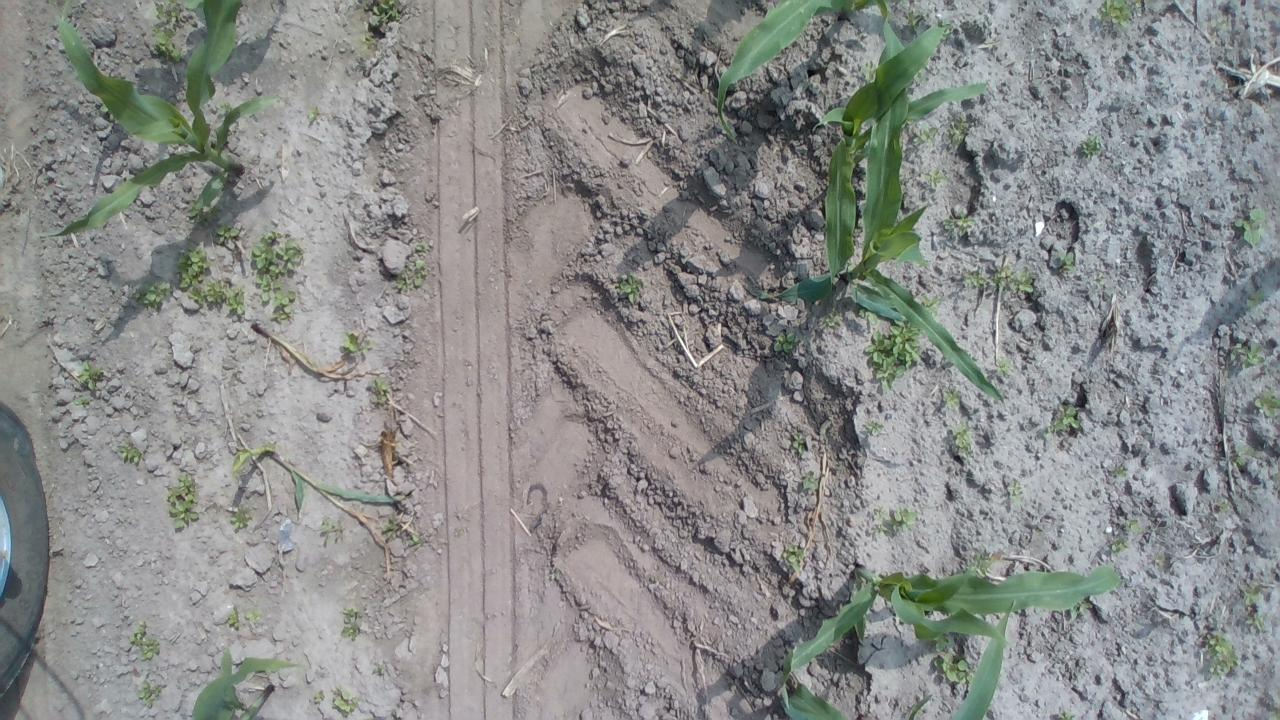Maize: (749, 21, 1007, 408), (34, 0, 316, 251), (758, 542, 1144, 680), (715, 2, 920, 144), (819, 20, 999, 160)
Weeds: (248, 229, 304, 280), (358, 0, 410, 51), (192, 278, 248, 320), (113, 437, 166, 480), (166, 472, 203, 533), (394, 243, 436, 294), (374, 512, 424, 550), (1099, 515, 1144, 557), (892, 317, 928, 369), (863, 327, 897, 380), (1202, 628, 1238, 674), (70, 361, 108, 404), (868, 504, 915, 538), (126, 621, 162, 665), (934, 654, 980, 688), (612, 269, 652, 306), (132, 279, 174, 313), (178, 246, 209, 292), (150, 1, 198, 30), (1235, 207, 1269, 246), (1238, 582, 1264, 631), (998, 263, 1034, 297), (1228, 338, 1270, 367), (341, 330, 379, 362), (148, 34, 186, 65), (248, 271, 285, 302), (226, 502, 264, 532), (212, 219, 246, 252), (134, 670, 164, 706), (784, 428, 816, 460), (946, 118, 978, 150), (1075, 128, 1108, 159), (316, 514, 346, 548), (959, 264, 998, 290), (778, 539, 808, 572), (332, 680, 358, 718), (338, 604, 364, 642), (224, 606, 262, 632), (1248, 387, 1280, 417), (938, 211, 976, 236), (1224, 439, 1254, 470), (1050, 404, 1076, 439), (922, 161, 951, 191), (951, 428, 979, 459), (368, 374, 392, 410), (272, 290, 296, 325), (1102, 1, 1138, 24), (182, 201, 216, 224), (970, 550, 996, 577), (820, 308, 850, 330), (916, 124, 943, 148), (773, 327, 796, 353), (1060, 249, 1082, 275), (858, 305, 884, 325), (1106, 458, 1128, 481), (372, 660, 393, 683), (862, 415, 886, 435), (1245, 289, 1267, 310), (919, 292, 940, 314), (860, 61, 880, 84), (1006, 477, 1023, 504), (943, 389, 964, 408), (991, 360, 1011, 379), (1052, 705, 1076, 720), (799, 468, 819, 486), (308, 689, 322, 708), (306, 106, 320, 124), (1217, 499, 1232, 514), (1150, 554, 1166, 568)
